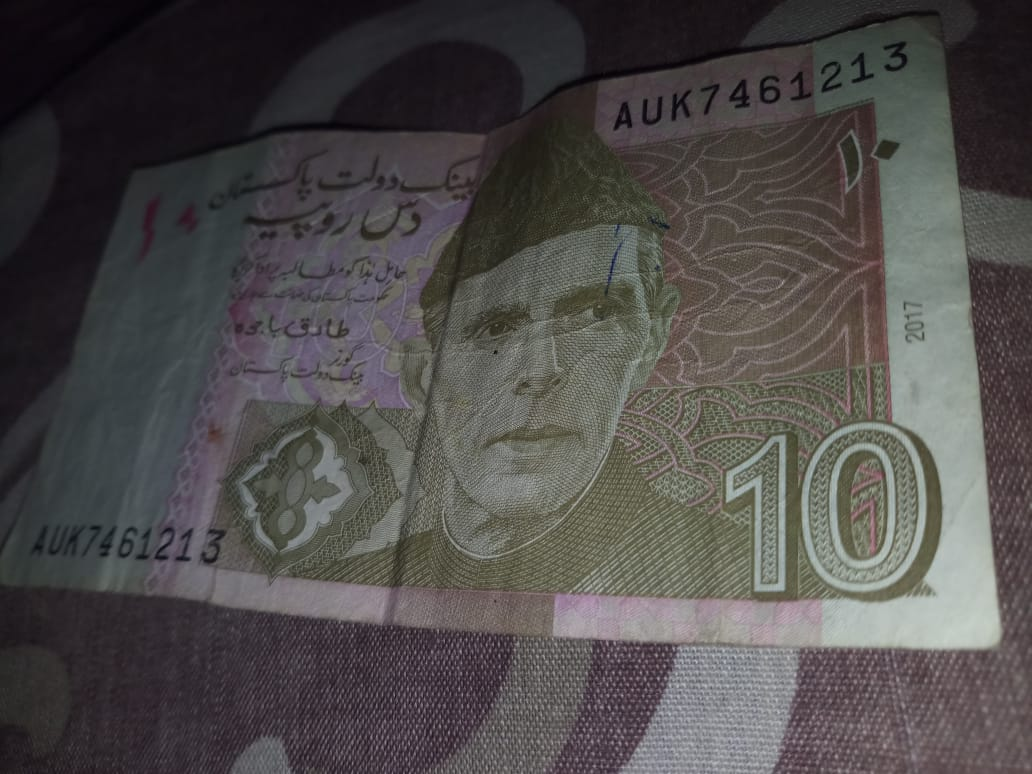10 rupee: (14, 16, 990, 641)
